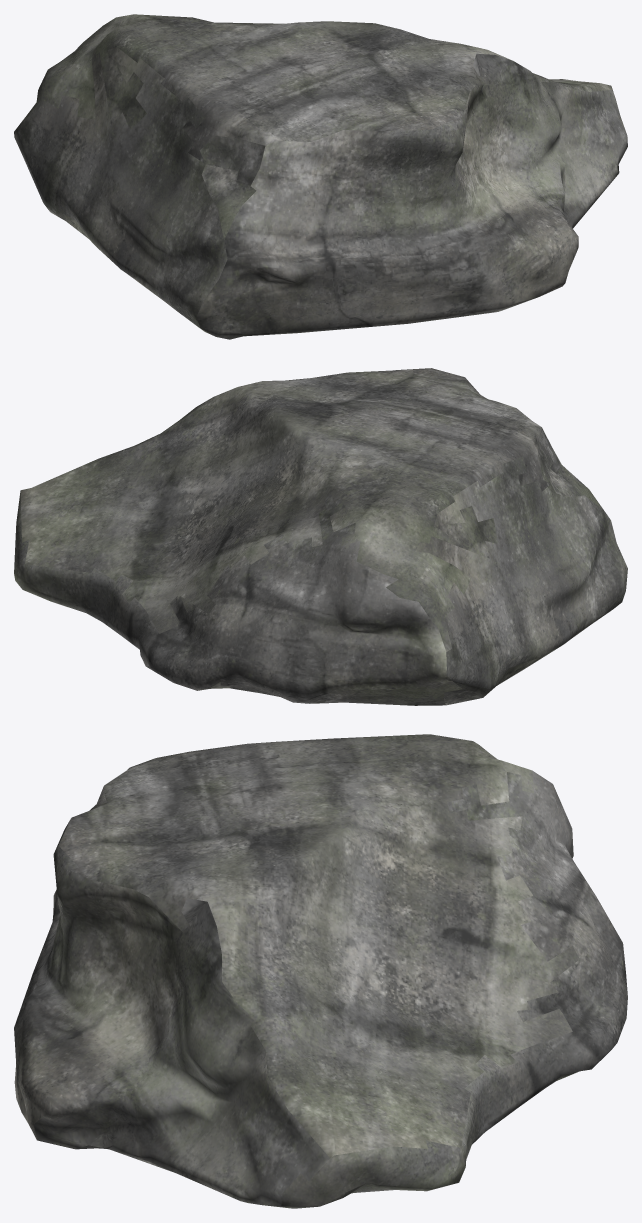
Rendered from SM_Small_Rock_B.fbx.
3 views of the same model, one above another, from view 1: azimuth 30°, elevation 25°; view 2: azimuth 150°, elevation 25°; view 3: azimuth 270°, elevation 25° (orthographic). The views are drawn at different scales.
Visible parts, largest first — view 1: SM_Small_Rock_B_LOD0; view 2: SM_Small_Rock_B_LOD0; view 3: SM_Small_Rock_B_LOD0.
Boxes of the visible parts, <box> form: SM_Small_Rock_B_LOD0: <box>14,14,627,339</box>; SM_Small_Rock_B_LOD0: <box>14,368,627,705</box>; SM_Small_Rock_B_LOD0: <box>14,734,627,1208</box>.
Bounding box in the file's own units: 187 × 156 × 71.52.
